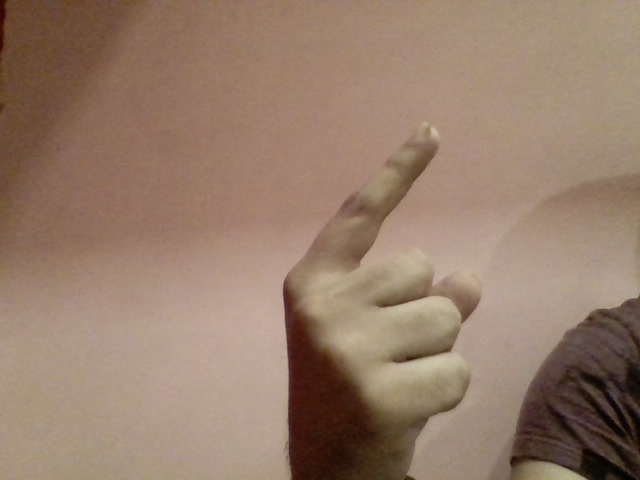z: (256, 103, 498, 480)
